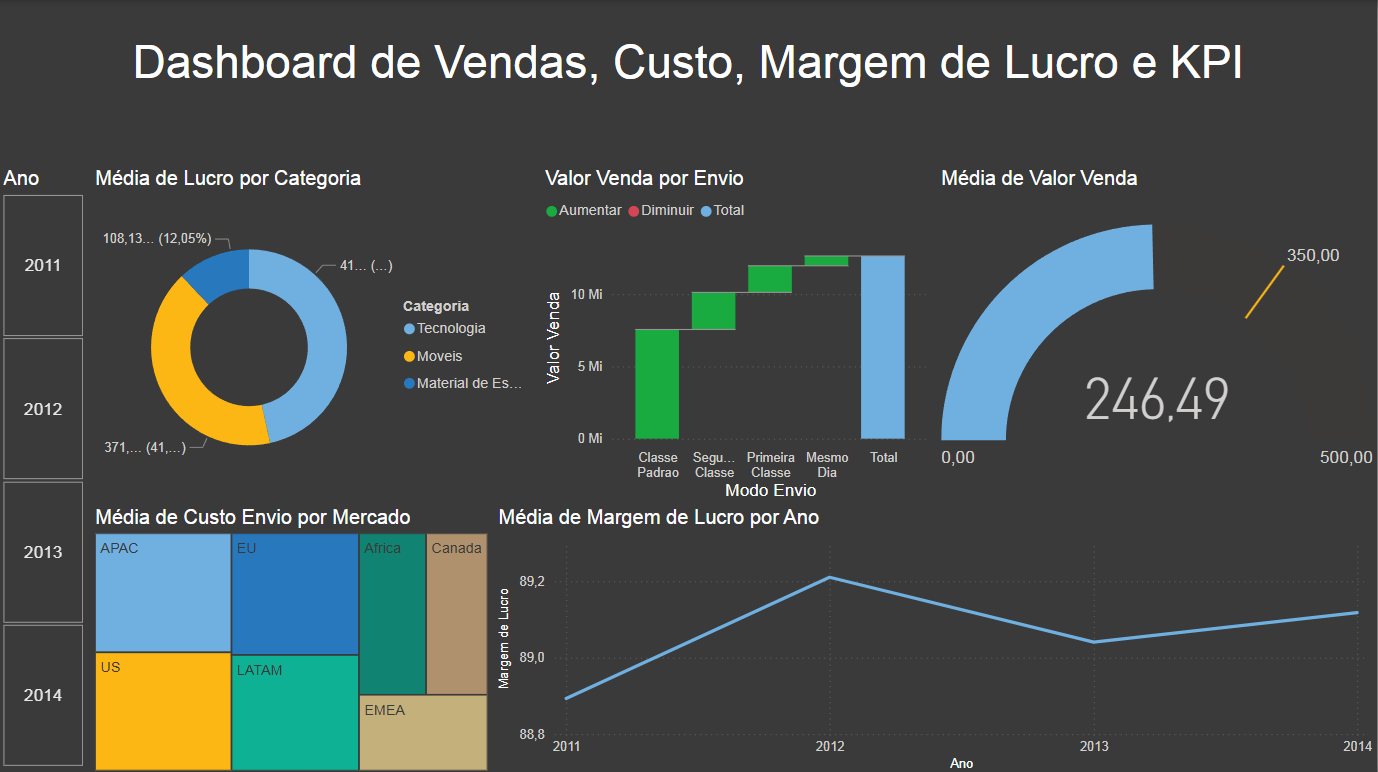

What the dashboard file says about the page in this screenshot:
{"tool":"powerbi","page":{"name":"Página 1","canvas":[1280,720],"ordinal":0},"visuals":[{"type":"waterfallChart","title":"Valor Venda por Envio","fields":{"Category":["Pedidos.Modo Envio"],"Y":["Sum(Vendas.Valor Venda)"]},"box":[503.5,155.8,366,313.4],"z":0},{"type":"treemap","fields":{"Group":["Clientes.Mercado"],"Values":["Avg(Vendas.Custo Envio)"]},"box":[84.9,469.3,374.1,250.7],"z":1000},{"type":"gauge","fields":{"Y":["Avg(Vendas.Valor Venda)"]},"box":[869.5,155.8,410.5,313.4],"z":2000},{"type":"donutChart","fields":{"Category":["Produtos.Categoria"],"Y":["Avg(Vendas.Lucro)"]},"box":[84.9,155.8,418.6,313.4],"z":3000},{"type":"lineChart","title":"Média de Margem de Lucro por Ano","fields":{"Category":["Pedidos.Data Pedido.Variation.Hierarquia de datas.Ano","Pedidos.Data Pedido.Variation.Hierarquia de datas.Trimestre","Pedidos.Data Pedido.Variation.Hierarquia de datas.Mês","Pedidos.Data Pedido.Variation.Hierarquia de datas.Dia"],"Y":["Avg(Vendas.Marg Lucro)"]},"box":[459,469.3,821,250.7],"z":4000},{"type":"advancedSlicerVisual","fields":{"Values":["Pedidos.Data Pedido.Variation.Hierarquia de datas.Ano"]},"box":[0,155.7,84.9,564.2],"z":5000},{"type":"textbox","box":[0,28.4,1281.3,71.8],"z":5001}]}

Visuals, with their boxes in screenshot pixels (x1, y1, x2, y2), scaled from the page's 1280x720 canvas onto the 1378x772 screenshot:
"Valor Venda por Envio" waterfallChart: bbox=(542, 167, 936, 503)
treemap - Clientes.Mercado x Avg(Vendas.Custo Envio): bbox=(91, 503, 494, 771)
gauge - Avg(Vendas.Valor Venda): bbox=(936, 167, 1377, 503)
donutChart - Produtos.Categoria x Avg(Vendas.Lucro): bbox=(91, 167, 542, 503)
"Média de Margem de Lucro por Ano" lineChart: bbox=(494, 503, 1377, 771)
advancedSlicerVisual - Pedidos.Data Pedido.Variation.Hierarquia de datas.Ano: bbox=(0, 167, 91, 771)
textbox: bbox=(0, 30, 1377, 107)
